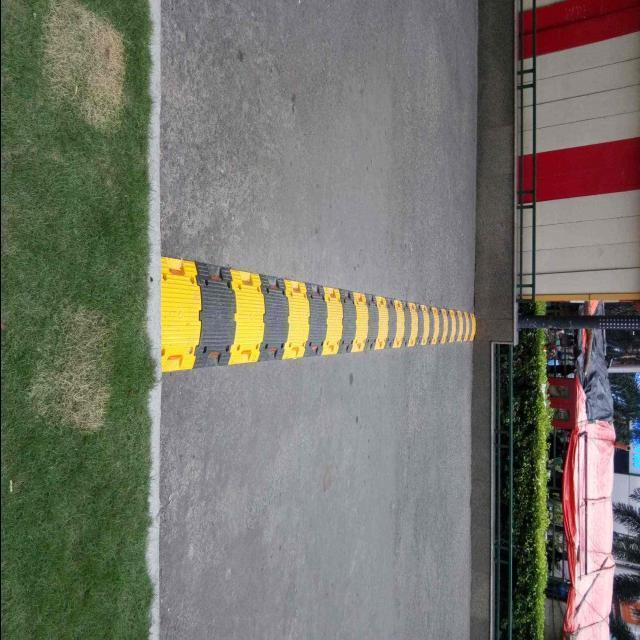speedbreaker: (156, 270, 482, 384)
